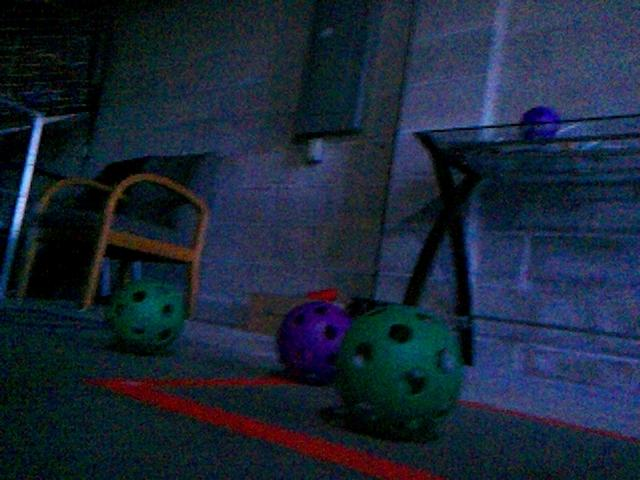Green: (329, 300, 469, 440), (106, 277, 188, 353)
Purple: (275, 299, 353, 385), (520, 106, 561, 140)
